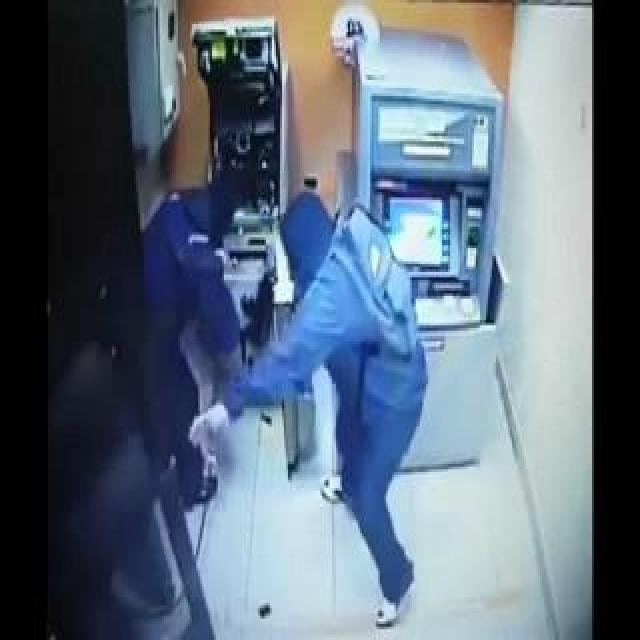thief: (142, 153, 382, 374)
